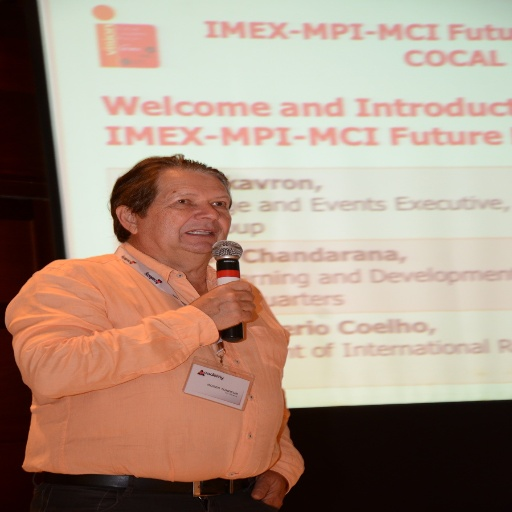hand: (179, 279, 268, 347), (249, 470, 291, 510)
